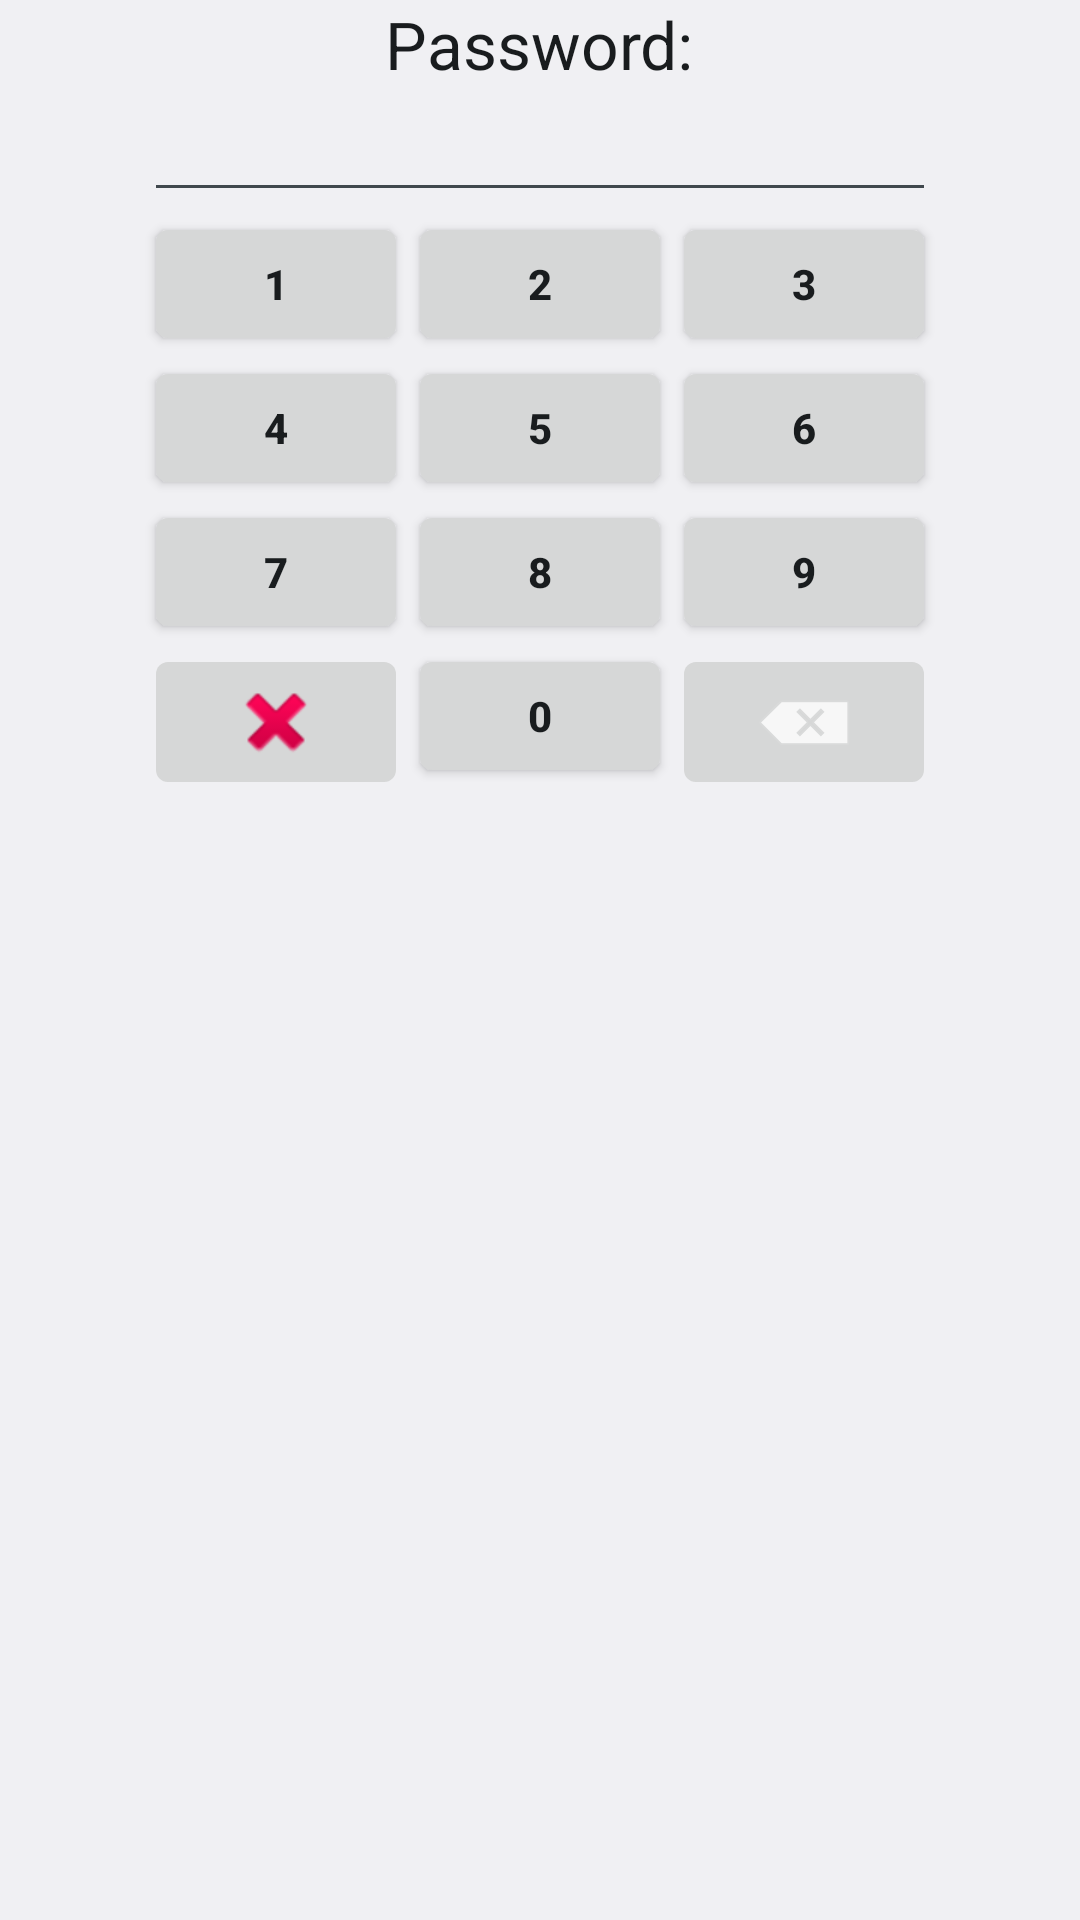

Icon click points for this 1080 x 1920 phone screenshot, format [x,y]:
delete: [276,722], [804,722]
